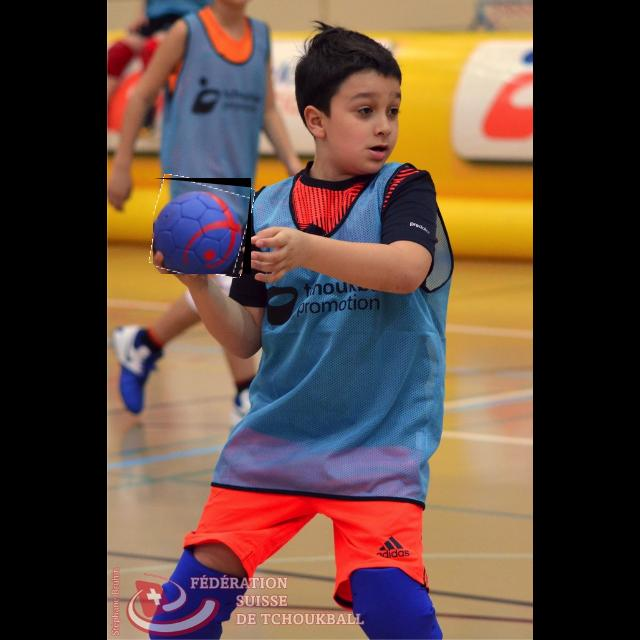Football: (153, 178, 251, 274)
